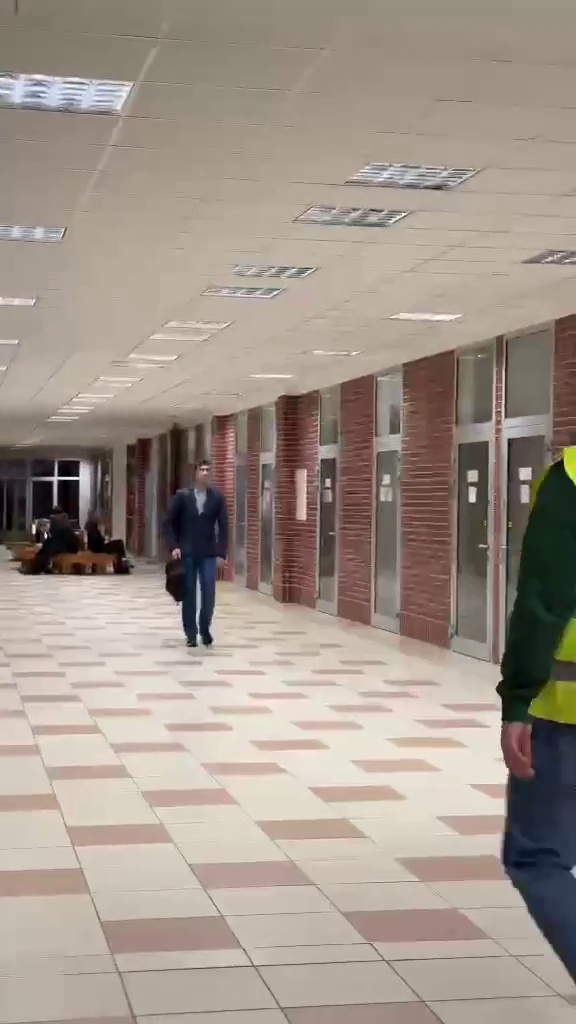no vest: (160, 448, 230, 653)
vest: (496, 432, 576, 978)
